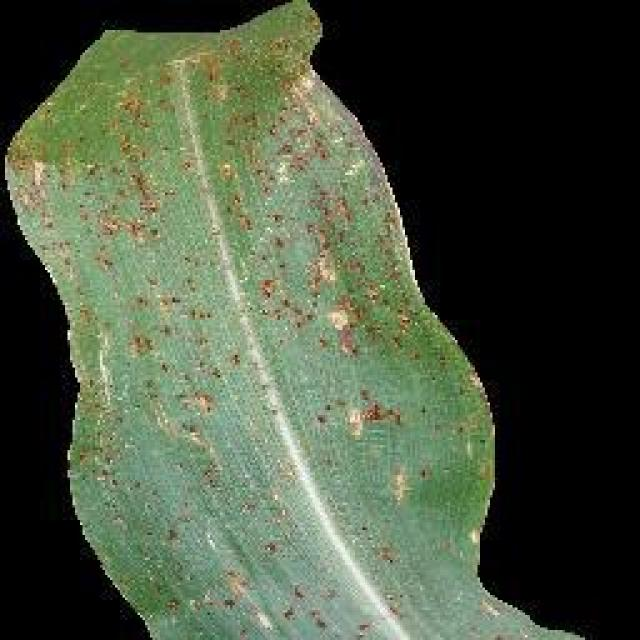Corn Common Rust: (87, 72, 383, 480)
